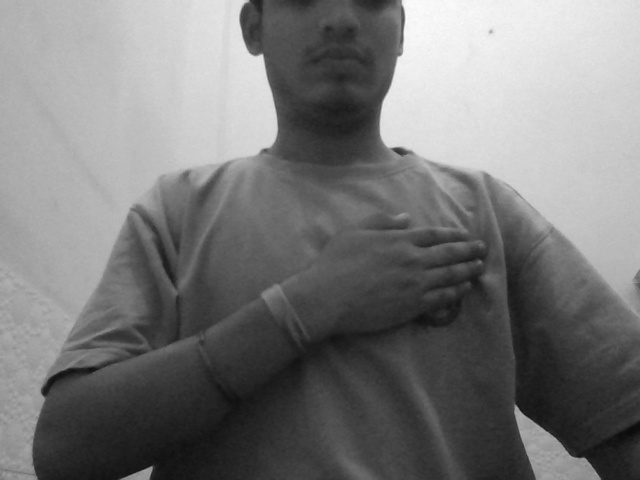Sorry: (274, 187, 512, 379)
